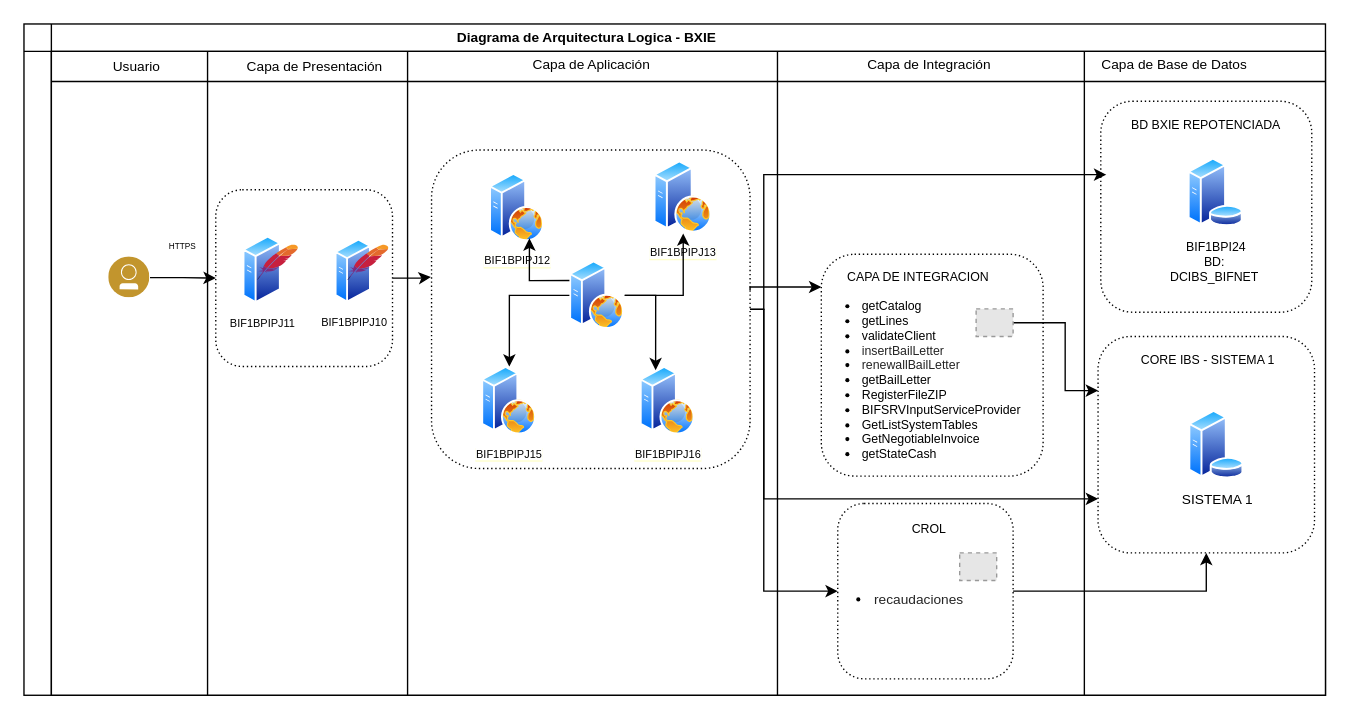
Image size: 1349x719. Some labels were removed from this diagram. Grey dashed boxes stand in for pictures. The shapes that lost their labels are listed below. From the top down, each one's centre as x and y in pixels, then its label:
At point 128,276: "CLIENTE / USUARIO".
At point 596,294: "BIF1BPIPJ14".
